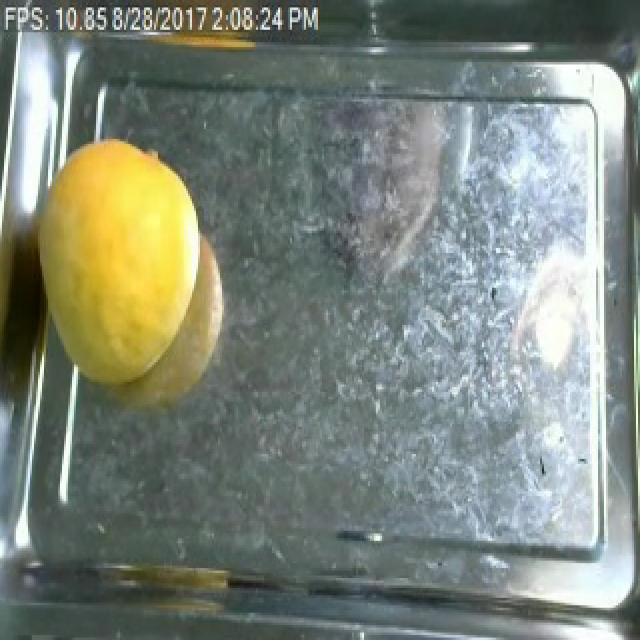fruit: (22, 134, 234, 404)
